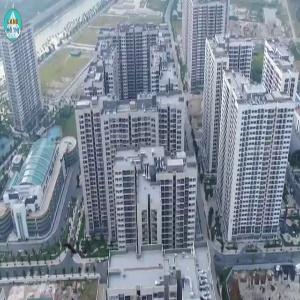drone: (44, 220, 100, 276)
